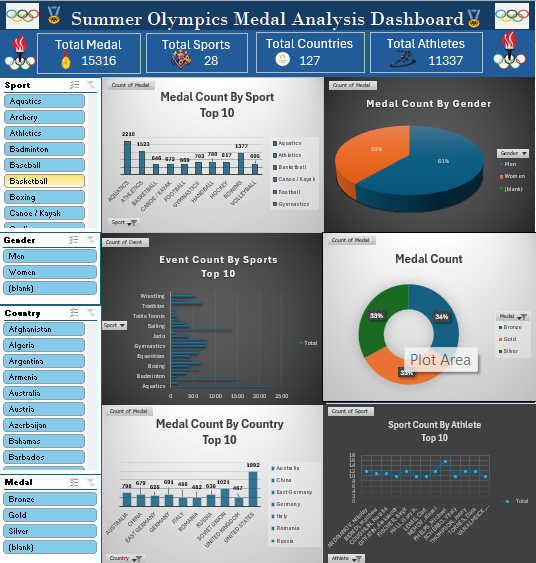

The page's visual inventory and layout, read from the dashboard file:
{"tool":"powerbi","page":{"name":"Page 1","canvas":[1280,720],"ordinal":0},"visuals":[{"type":"textbox","box":[1,0,1279,75],"z":0},{"type":"kpi","fields":{"Indicator":["Clean_data.Total Medals"],"TrendLine":["Clean_data.Medal"]},"box":[0,67.3,321.6,66],"z":1000},{"type":"kpi","fields":{"Indicator":["Clean_data.Total Countries"],"TrendLine":["Clean_data.Country"]},"box":[321.6,67.3,342.4,66],"z":2000},{"type":"kpi","fields":{"Indicator":["Clean_data.Total Sports"],"TrendLine":["Clean_data.Sport"]},"box":[664,67.3,303.3,66],"z":3000},{"type":"kpi","fields":{"Indicator":["Clean_data.Total Athletes"],"TrendLine":["Clean_data.Athlete"]},"box":[967.3,67.3,313,66],"z":4000},{"type":"columnChart","fields":{"Category":["Clean_data.Country"],"Y":["CountNonNull(Clean_data.Medal)"]},"box":[218.6,132.9,445.7,311.4],"z":5000},{"type":"pieChart","fields":{"Y":["CountNonNull(Clean_data.Medal)"],"Category":["Clean_data.Gender"]},"box":[663.8,133.8,396.2,311.2],"z":6000},{"type":"listSlicer","fields":{"Values":["Clean_data.Gender"]},"box":[1060,292.5,218.8,151.2],"z":7000},{"type":"listSlicer","fields":{"Values":["Clean_data.Medal"]},"box":[0,292.5,218.8,152.5],"z":8000},{"type":"listSlicer","fields":{"Values":["Clean_data.Sport"]},"box":[1.2,133.3,217.7,159],"z":9000},{"type":"listSlicer","fields":{"Values":["Clean_data.Country"]},"box":[1060.2,134.5,220.1,156.5],"z":10000},{"type":"donutChart","fields":{"Category":["Clean_data.Medal"],"Y":["CountNonNull(Clean_data.Sport)"]},"box":[362.5,445,358.8,275],"z":11000},{"type":"lineChart","fields":{"Category":["Clean_data.Athlete"],"Y":["CountNonNull(Clean_data.Sport)"]},"box":[0,445,362.5,275],"z":12000},{"type":"columnChart","fields":{"Category":["Clean_data.Event"],"Y":["CountNonNull(Clean_data.Sport)"]},"box":[716.2,445,291.2,275],"z":13000},{"type":"clusteredBarChart","fields":{"Category":["Clean_data.City"],"Y":["CountNonNull(Clean_data.Medal)"]},"box":[1007.5,443.8,271.2,275],"z":14000}]}

Visuals, with their boxes on the page's 1280x720 design canvas (x1, y1, x2, y2). These are canvas units, not pixel positions in the 536x563 screenshot, which may show the page scaled, cropped or inside an application window:
textbox: <bbox>1, 0, 1280, 75</bbox>
kpi - Clean_data.Total Medals x Clean_data.Medal: <bbox>0, 67, 322, 133</bbox>
kpi - Clean_data.Total Countries x Clean_data.Country: <bbox>322, 67, 664, 133</bbox>
kpi - Clean_data.Total Sports x Clean_data.Sport: <bbox>664, 67, 967, 133</bbox>
kpi - Clean_data.Total Athletes x Clean_data.Athlete: <bbox>967, 67, 1280, 133</bbox>
columnChart - Clean_data.Country x CountNonNull(Clean_data.Medal): <bbox>219, 133, 664, 444</bbox>
pieChart - CountNonNull(Clean_data.Medal) x Clean_data.Gender: <bbox>664, 134, 1060, 445</bbox>
listSlicer - Clean_data.Gender: <bbox>1060, 292, 1279, 444</bbox>
listSlicer - Clean_data.Medal: <bbox>0, 292, 219, 445</bbox>
listSlicer - Clean_data.Sport: <bbox>1, 133, 219, 292</bbox>
listSlicer - Clean_data.Country: <bbox>1060, 134, 1280, 291</bbox>
donutChart - Clean_data.Medal x CountNonNull(Clean_data.Sport): <bbox>362, 445, 721, 720</bbox>
lineChart - Clean_data.Athlete x CountNonNull(Clean_data.Sport): <bbox>0, 445, 362, 720</bbox>
columnChart - Clean_data.Event x CountNonNull(Clean_data.Sport): <bbox>716, 445, 1007, 720</bbox>
clusteredBarChart - Clean_data.City x CountNonNull(Clean_data.Medal): <bbox>1008, 444, 1279, 719</bbox>
